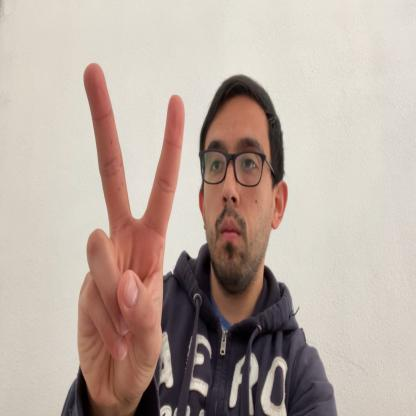V: (77, 62, 185, 410)
